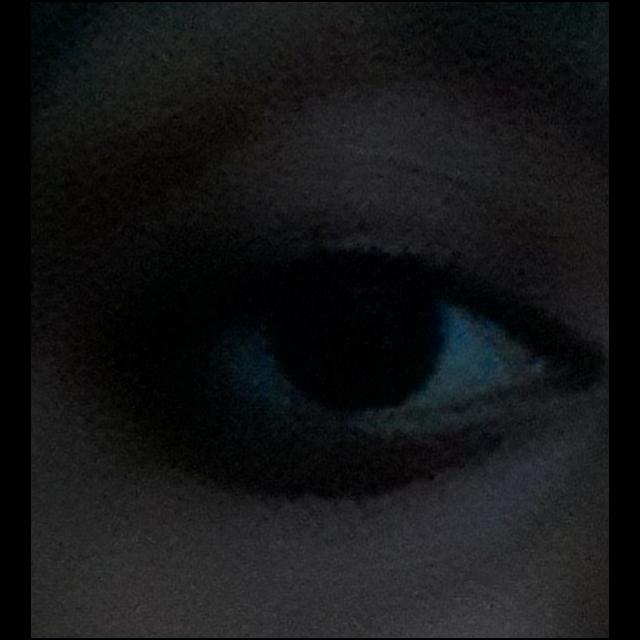eye: (207, 277, 549, 418)
iris: (270, 286, 440, 400)
